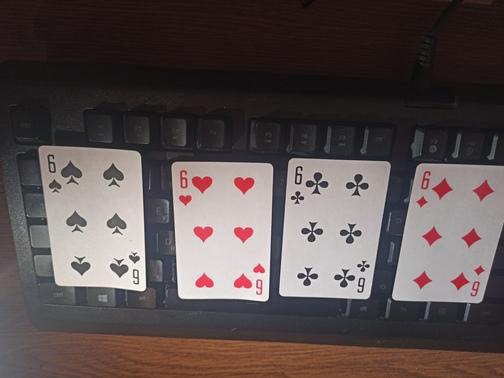sixclubs: (279, 155, 387, 300)
sixdiamonds: (392, 163, 504, 304)
sixhearts: (170, 158, 270, 304)
sixspades: (36, 142, 153, 293)
